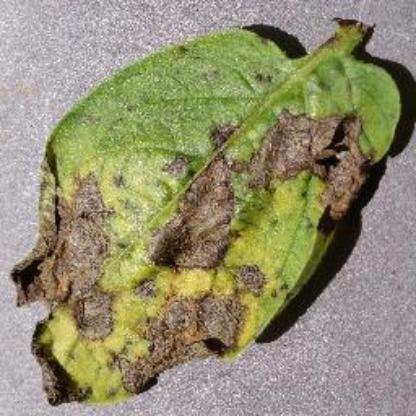Early-Blight: (13, 14, 402, 408)
